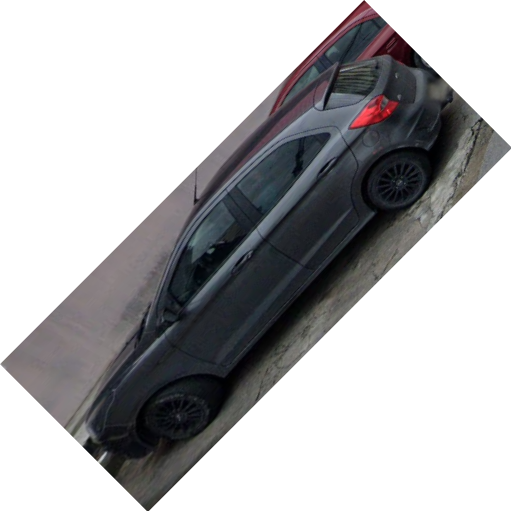car: (91, 55, 440, 444)
